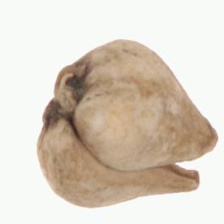L1: (166, 131, 219, 191), (35, 68, 85, 127)
L2: (35, 38, 218, 209)
